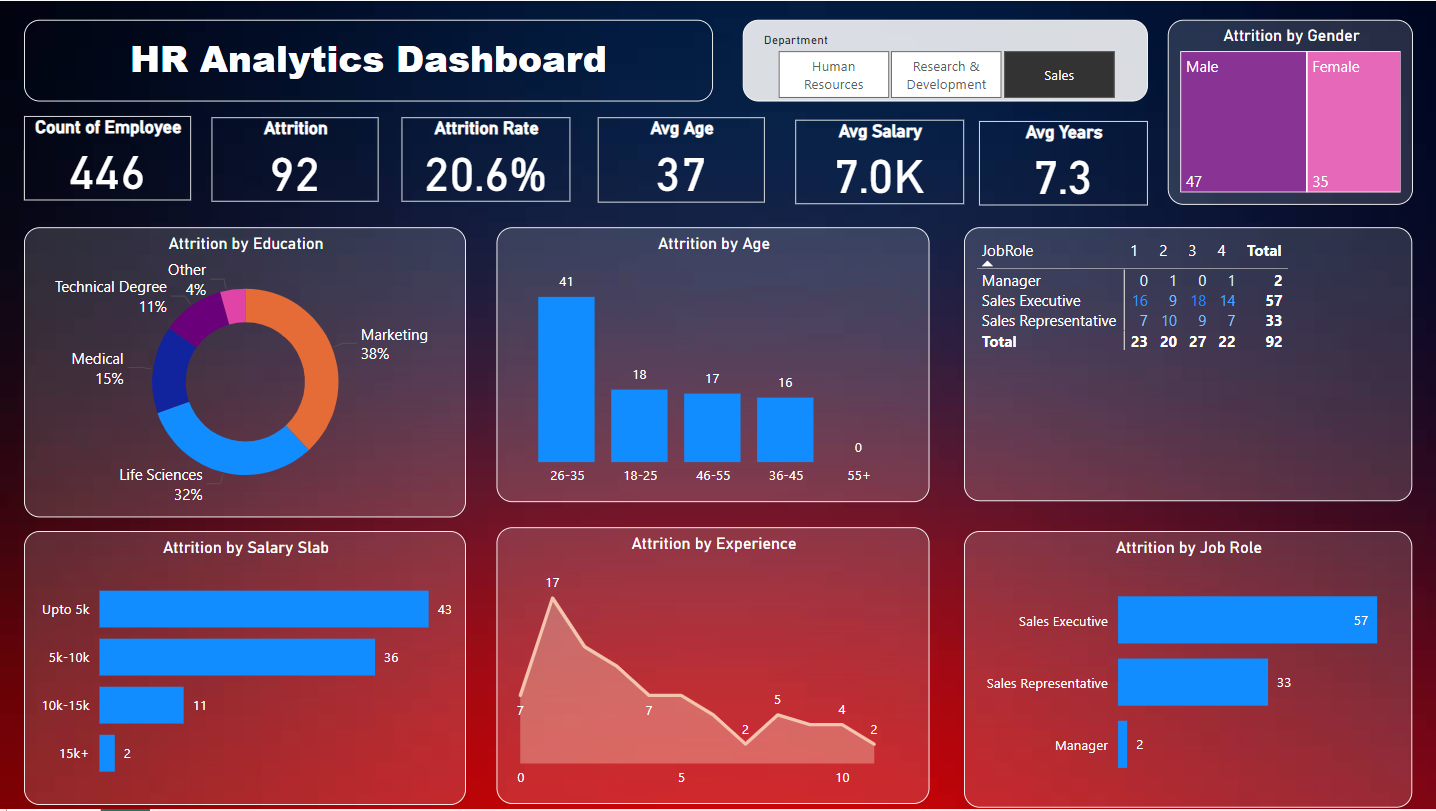

What the dashboard file says about the page in this screenshot:
{"tool":"powerbi","page":{"name":"Page 1","canvas":[1280,720],"ordinal":0},"visuals":[{"type":"card","title":"Count of Employee","fields":{"Values":["CountNonNull(HR_Analytics.EmpID)"]},"box":[21.9,102.7,148.8,75.1],"z":0},{"type":"card","title":"Attrition","fields":{"Values":["Sum(HR_Analytics.AttritionCount)"]},"box":[189.1,104,148.8,75.1],"z":1000},{"type":"card","title":"Attrition Rate","fields":{"Values":["HR_Analytics.AttritionRate"]},"box":[359,104,150.1,75.1],"z":2000},{"type":"card","title":"Avg Age","fields":{"Values":["Avg(HR_Analytics.Age)"]},"box":[532.8,104,148.8,76.4],"z":3000},{"type":"card","title":"Avg Salary","fields":{"Values":["Avg(HR_Analytics.MonthlyIncome)"]},"box":[709.3,105.3,150.1,75.1],"z":4000},{"type":"card","title":"Avg Years","fields":{"Values":["Avg(HR_Analytics.YearsAtCompany)"]},"box":[872.6,106.7,150.1,75.1],"z":5000},{"type":"donutChart","title":"Attrition by Education","fields":{"Category":["HR_Analytics.EducationField"],"Y":["Sum(HR_Analytics.AttritionCount)"]},"box":[21.9,201.5,393.7,258.1],"z":6000},{"type":"columnChart","title":"Attrition by Age","fields":{"Category":["HR_Analytics.AgeGroup"],"Y":["Sum(HR_Analytics.AttritionCount)"]},"box":[443.3,201.5,385.8,244.9],"z":7000},{"type":"pivotTable","fields":{"Rows":["HR_Analytics.JobRole"],"Columns":["HR_Analytics.JobSatisfaction"],"Values":["Sum(HR_Analytics.AttritionCount)"]},"box":[859.4,201.5,399,243.6],"z":8000},{"type":"barChart","title":"Attrition by Age","fields":{"Category":["HR_Analytics.SalarySlab"],"Y":["Sum(HR_Analytics.AttritionCount)"]},"box":[21.9,471.4,393.7,243.6],"z":9000},{"type":"barChart","title":"Attrition by Age","fields":{"Category":["HR_Analytics.JobRole"],"Y":["Sum(HR_Analytics.AttritionCount)"]},"box":[859.4,471.4,399,246.3],"z":10000},{"type":"areaChart","title":"Attrition by Age","fields":{"Category":["HR_Analytics.YearsAtCompany"],"Y":["Sum(HR_Analytics.AttritionCount)"]},"box":[443.3,468.8,385.8,246.3],"z":11000},{"type":"treemap","title":"Attrition by Age","fields":{"Group":["HR_Analytics.Gender"],"Values":["Sum(HR_Analytics.AttritionCount)"]},"box":[1040.3,17.1,218.6,164.6],"z":12000},{"type":"slicer","fields":{"Values":["HR_Analytics.Department"]},"box":[662.4,17.1,360.8,72.4],"z":13000},{"type":"textbox","box":[22.4,17.1,613.7,72.4],"z":13001}]}

Visuals, with their boxes in screenshot pixels (x1, y1, x2, y2), scaled from the page's 1280x720 canvas onto the 1436x811 screenshot:
"Count of Employee" card: <box>25,116,192,200</box>
"Attrition" card: <box>212,117,379,202</box>
"Attrition Rate" card: <box>403,117,571,202</box>
"Avg Age" card: <box>598,117,765,203</box>
"Avg Salary" card: <box>796,119,964,203</box>
"Avg Years" card: <box>979,120,1147,205</box>
"Attrition by Education" donutChart: <box>25,227,466,518</box>
"Attrition by Age" columnChart: <box>497,227,930,503</box>
pivotTable - HR_Analytics.JobRole x HR_Analytics.JobSatisfaction: <box>964,227,1412,501</box>
"Attrition by Age" barChart: <box>25,531,466,805</box>
"Attrition by Age" barChart: <box>964,531,1412,808</box>
"Attrition by Age" areaChart: <box>497,528,930,805</box>
"Attrition by Age" treemap: <box>1167,19,1412,205</box>
slicer - HR_Analytics.Department: <box>743,19,1148,101</box>
textbox: <box>25,19,714,101</box>
